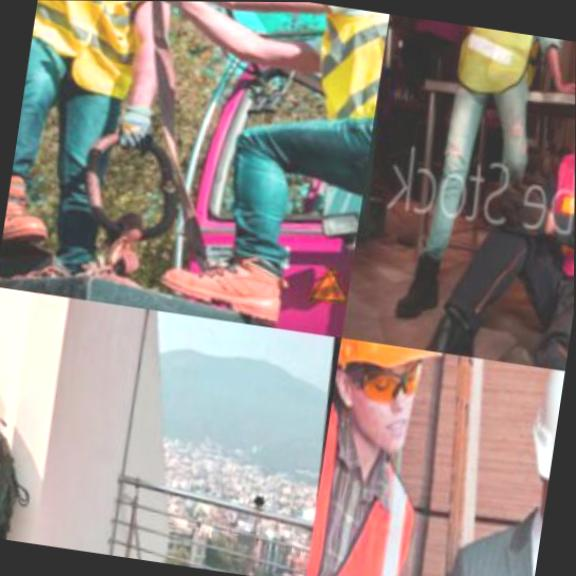safety_vest: (307, 404, 460, 576), (22, 0, 166, 117), (296, 3, 389, 145), (438, 23, 553, 114), (541, 144, 575, 294), (0, 432, 38, 542)
